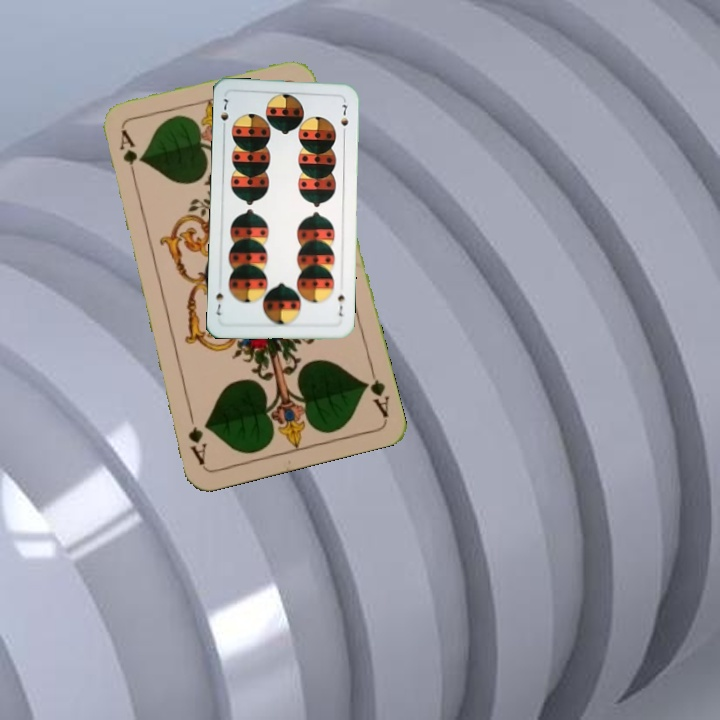GA: (359, 362, 392, 420), (115, 126, 139, 185)
S7: (217, 95, 232, 133), (334, 290, 347, 319)
